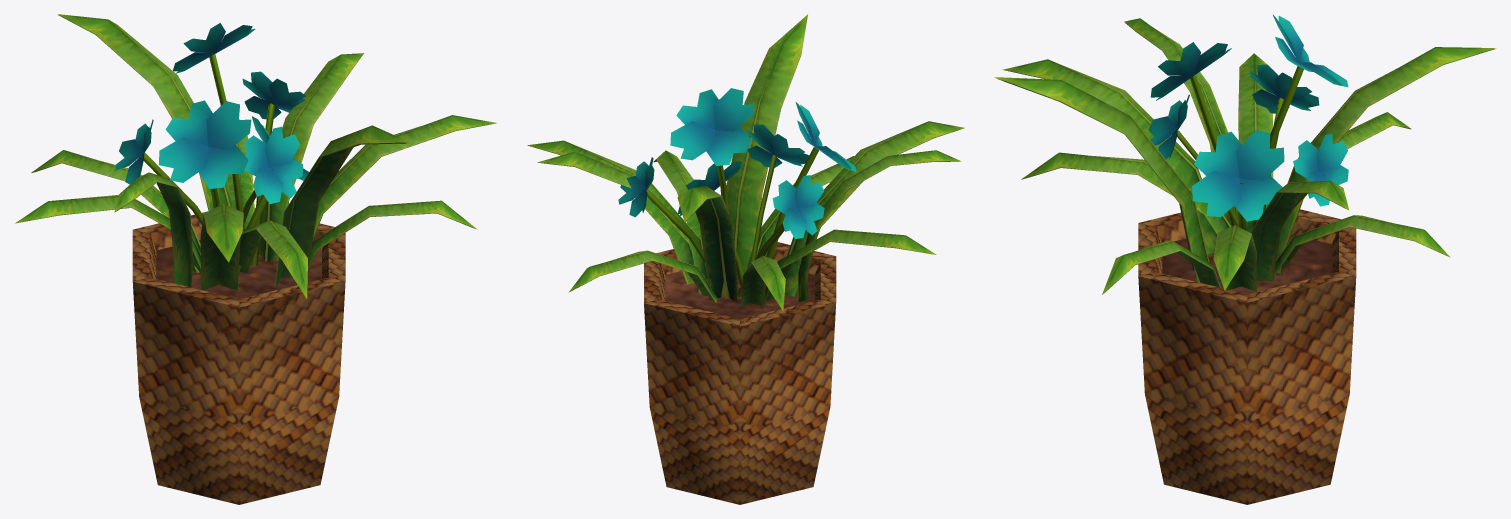
File: ETC0610025.fbx
3 renders of one model, left to right at view 1: azimuth 30°, elevation 25°; view 2: azimuth 150°, elevation 25°; view 3: azimuth 270°, elevation 25°, orthographic. The views are drawn at different scales.
Parts seen in each view (by area): view 1: smETC0610025; view 2: smETC0610025; view 3: smETC0610025.
Part boxes in pixels (box(x1,y1,x2,y2)): smETC0610025: box(15, 14, 496, 504); smETC0610025: box(527, 14, 964, 504); smETC0610025: box(994, 15, 1496, 504).
Size of the model in its own units: 121 by 107 by 110.
Materials: 1 (1 with a texture image).
